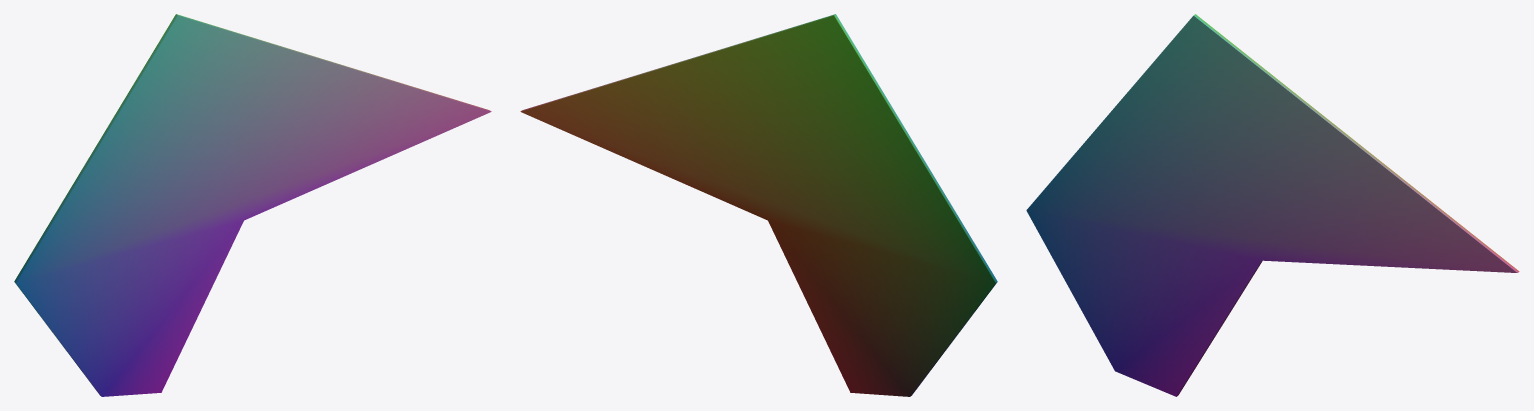
The model's file is zeometry-flat-shapes-flat-shard_v2.glb.
3 views of the same model, side by side, from view 1: azimuth 30°, elevation 25°; view 2: azimuth 150°, elevation 25°; view 3: azimuth 330°, elevation 25° (orthographic). The views are drawn at different scales.
Visible parts, largest first — view 1: Flat Shard_v2; view 2: Flat Shard_v2; view 3: Flat Shard_v2.
Boxes of the visible parts, x1,y1,x2,y2 form: Flat Shard_v2: (14, 14, 491, 396); Flat Shard_v2: (520, 14, 997, 396); Flat Shard_v2: (1026, 14, 1519, 396).
Size of the model in its own units: 0.5 by 0.375 by 0.00368.
